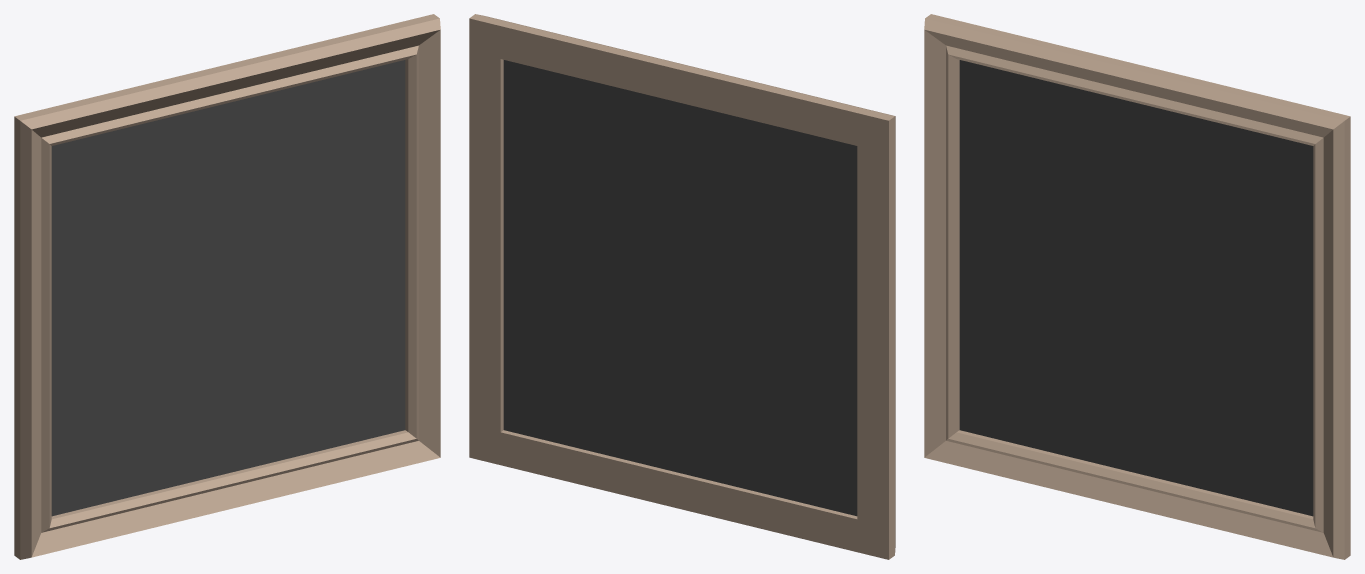
The model's file is Prop_Misc_Picture_Square_Large.fbx.
The picture shows the model from 3 angles, left to right: view 1: azimuth 30°, elevation 25°; view 2: azimuth 150°, elevation 25°; view 3: azimuth 330°, elevation 25°; orthographic projection.
Parts seen in each view (by area): view 1: object1.047, object2.032; view 2: object1.047, object2.032; view 3: object1.047, object2.032.
Boxes of the visible parts, bbox=[...] form: object1.047: bbox=[51, 60, 405, 516]; object2.032: bbox=[14, 14, 440, 559]; object1.047: bbox=[503, 60, 857, 516]; object2.032: bbox=[469, 14, 895, 559]; object1.047: bbox=[959, 60, 1313, 516]; object2.032: bbox=[924, 14, 1350, 559].
Size of the model in its own units: 100 by 100 by 5.
